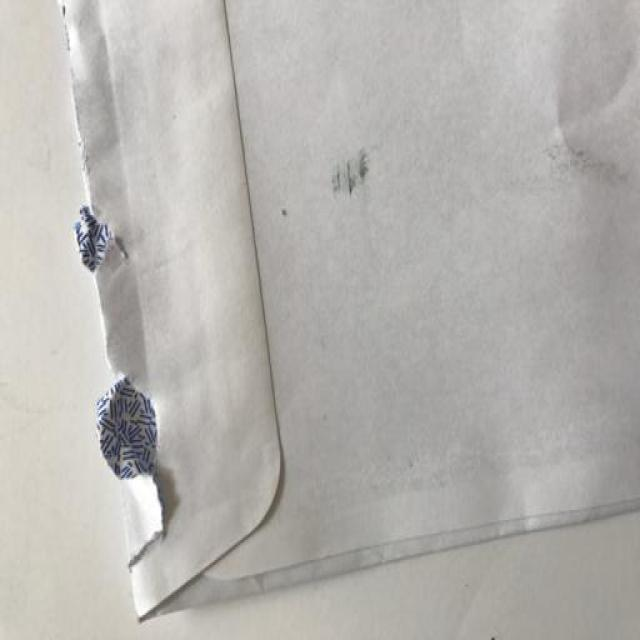paper: (61, 4, 640, 633)
